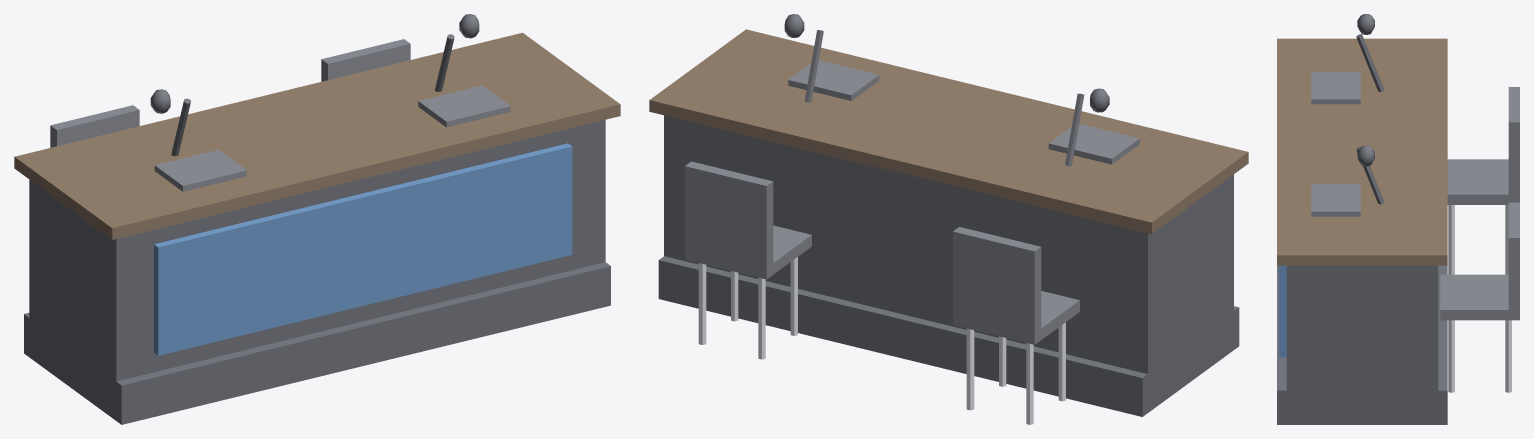
The model's file is martial-arts-dojo-and-fight-stages-commentary-desk-26b4a80e__18089.glb.
The picture shows the model from 3 angles, left to right: view 1: azimuth 30°, elevation 25°; view 2: azimuth 150°, elevation 25°; view 3: azimuth 270°, elevation 25°; orthographic projection. The views are drawn at different scales.
Visible parts, largest first — view 1: commentary-desk; view 2: commentary-desk; view 3: commentary-desk.
Boxes of the visible parts, x1=… form: commentary-desk: x1=14, y1=14, x2=620, y2=424; commentary-desk: x1=649, y1=14, x2=1248, y2=424; commentary-desk: x1=1277, y1=14, x2=1519, y2=424.
Bounding box in the file's own units: 2.7 × 1.4 × 1.28.
